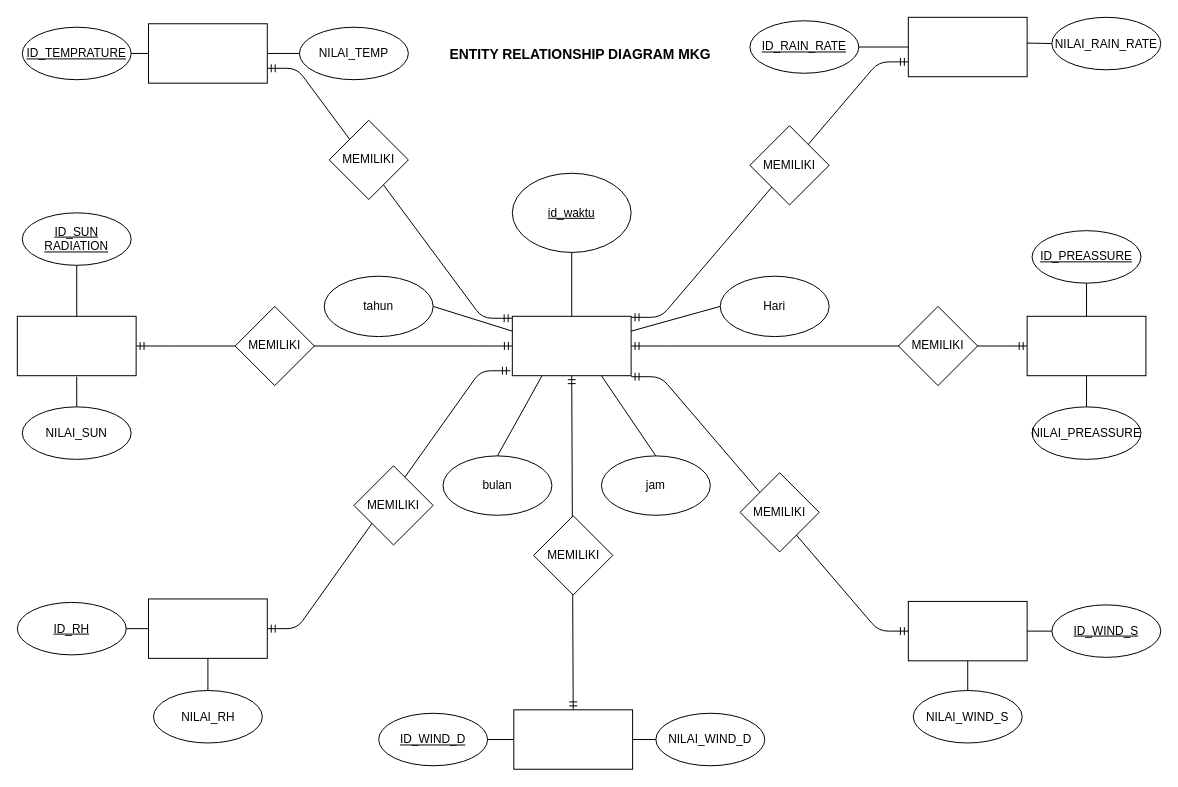
This 1178x787 diagram has some shape labels left out. The box of each missing label's shape, as (x1, y1, x2, y2) in pixels:
PREASSURE: (1026, 315, 1146, 376)
RAIN RATE: (907, 16, 1027, 77)
RH: (148, 598, 267, 658)
SUN RADIATION: (16, 315, 136, 376)
TEMPERATURE: (148, 23, 267, 83)
WAKTU: (511, 315, 631, 376)
WIND DIRECTION: (513, 709, 633, 769)
WIND SPEED: (907, 600, 1027, 661)
